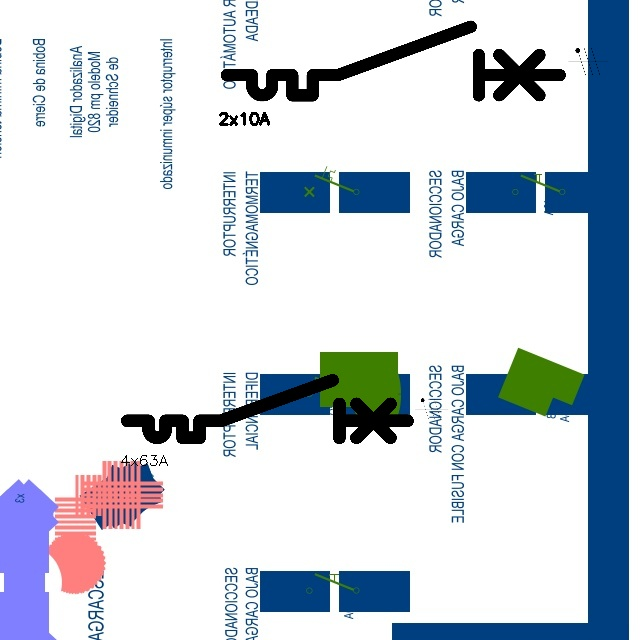interruptor_termomagnetico: (218, 18, 568, 104), (120, 373, 414, 445)
